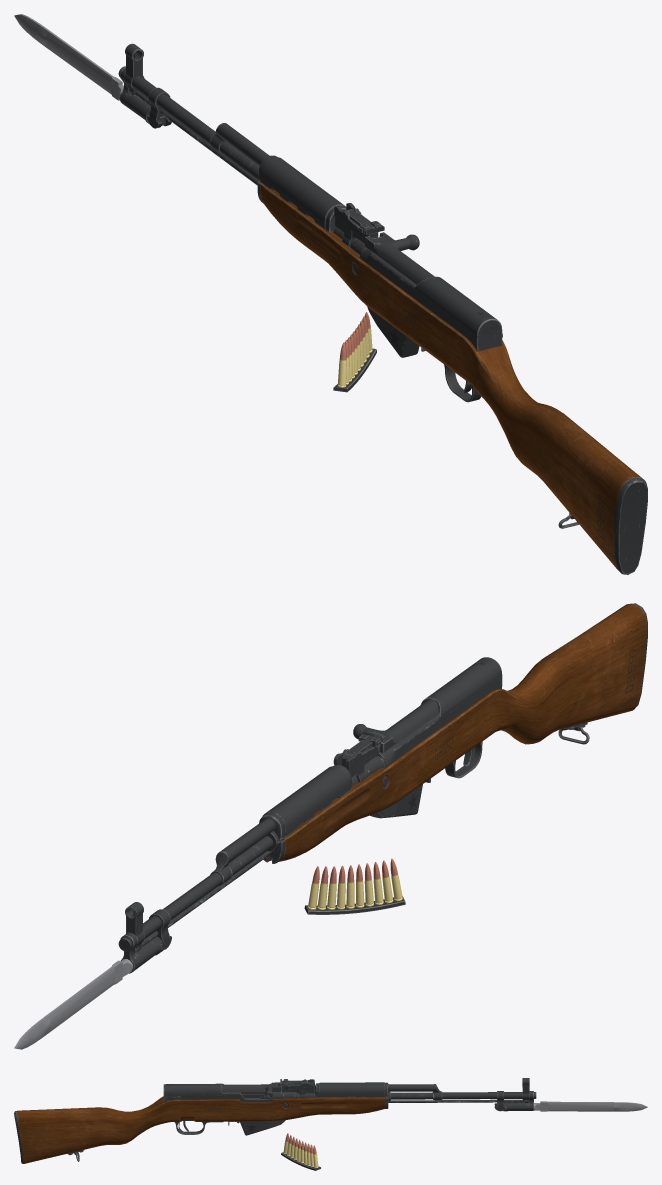
Rendered from sks.glb.
The picture shows the model from 3 angles, top to bottom: view 1: azimuth 30°, elevation 25°; view 2: azimuth 150°, elevation 25°; view 3: azimuth 270°, elevation 25°; orthographic projection. The views are drawn at different scales.
Size of the model in its own units: 0.0688 by 0.1513 by 1.02.
Materials: 1 (1 with a texture image).
